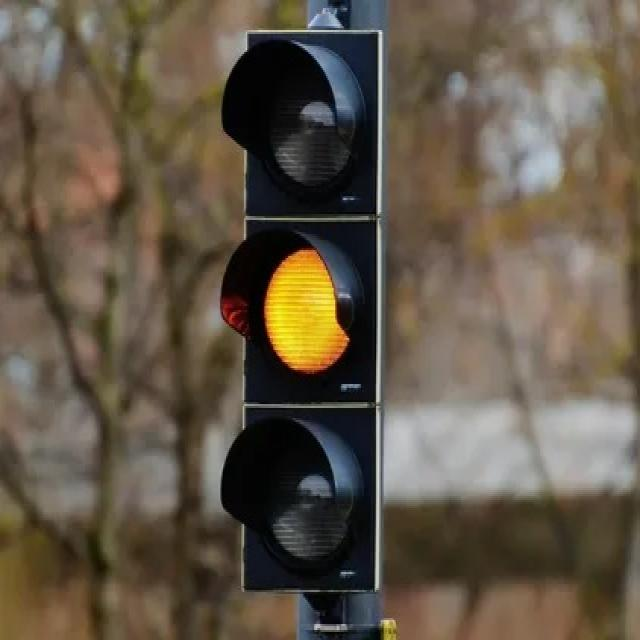sari: (218, 31, 378, 594)
